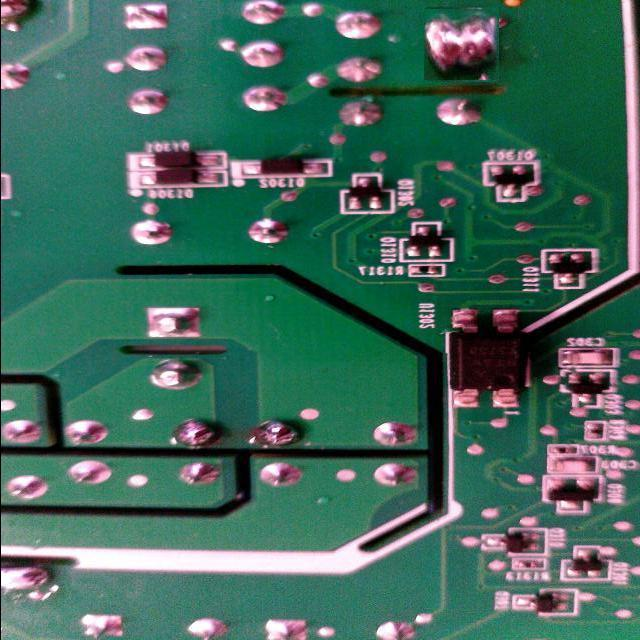Short_circuit: (425, 8, 499, 81)
